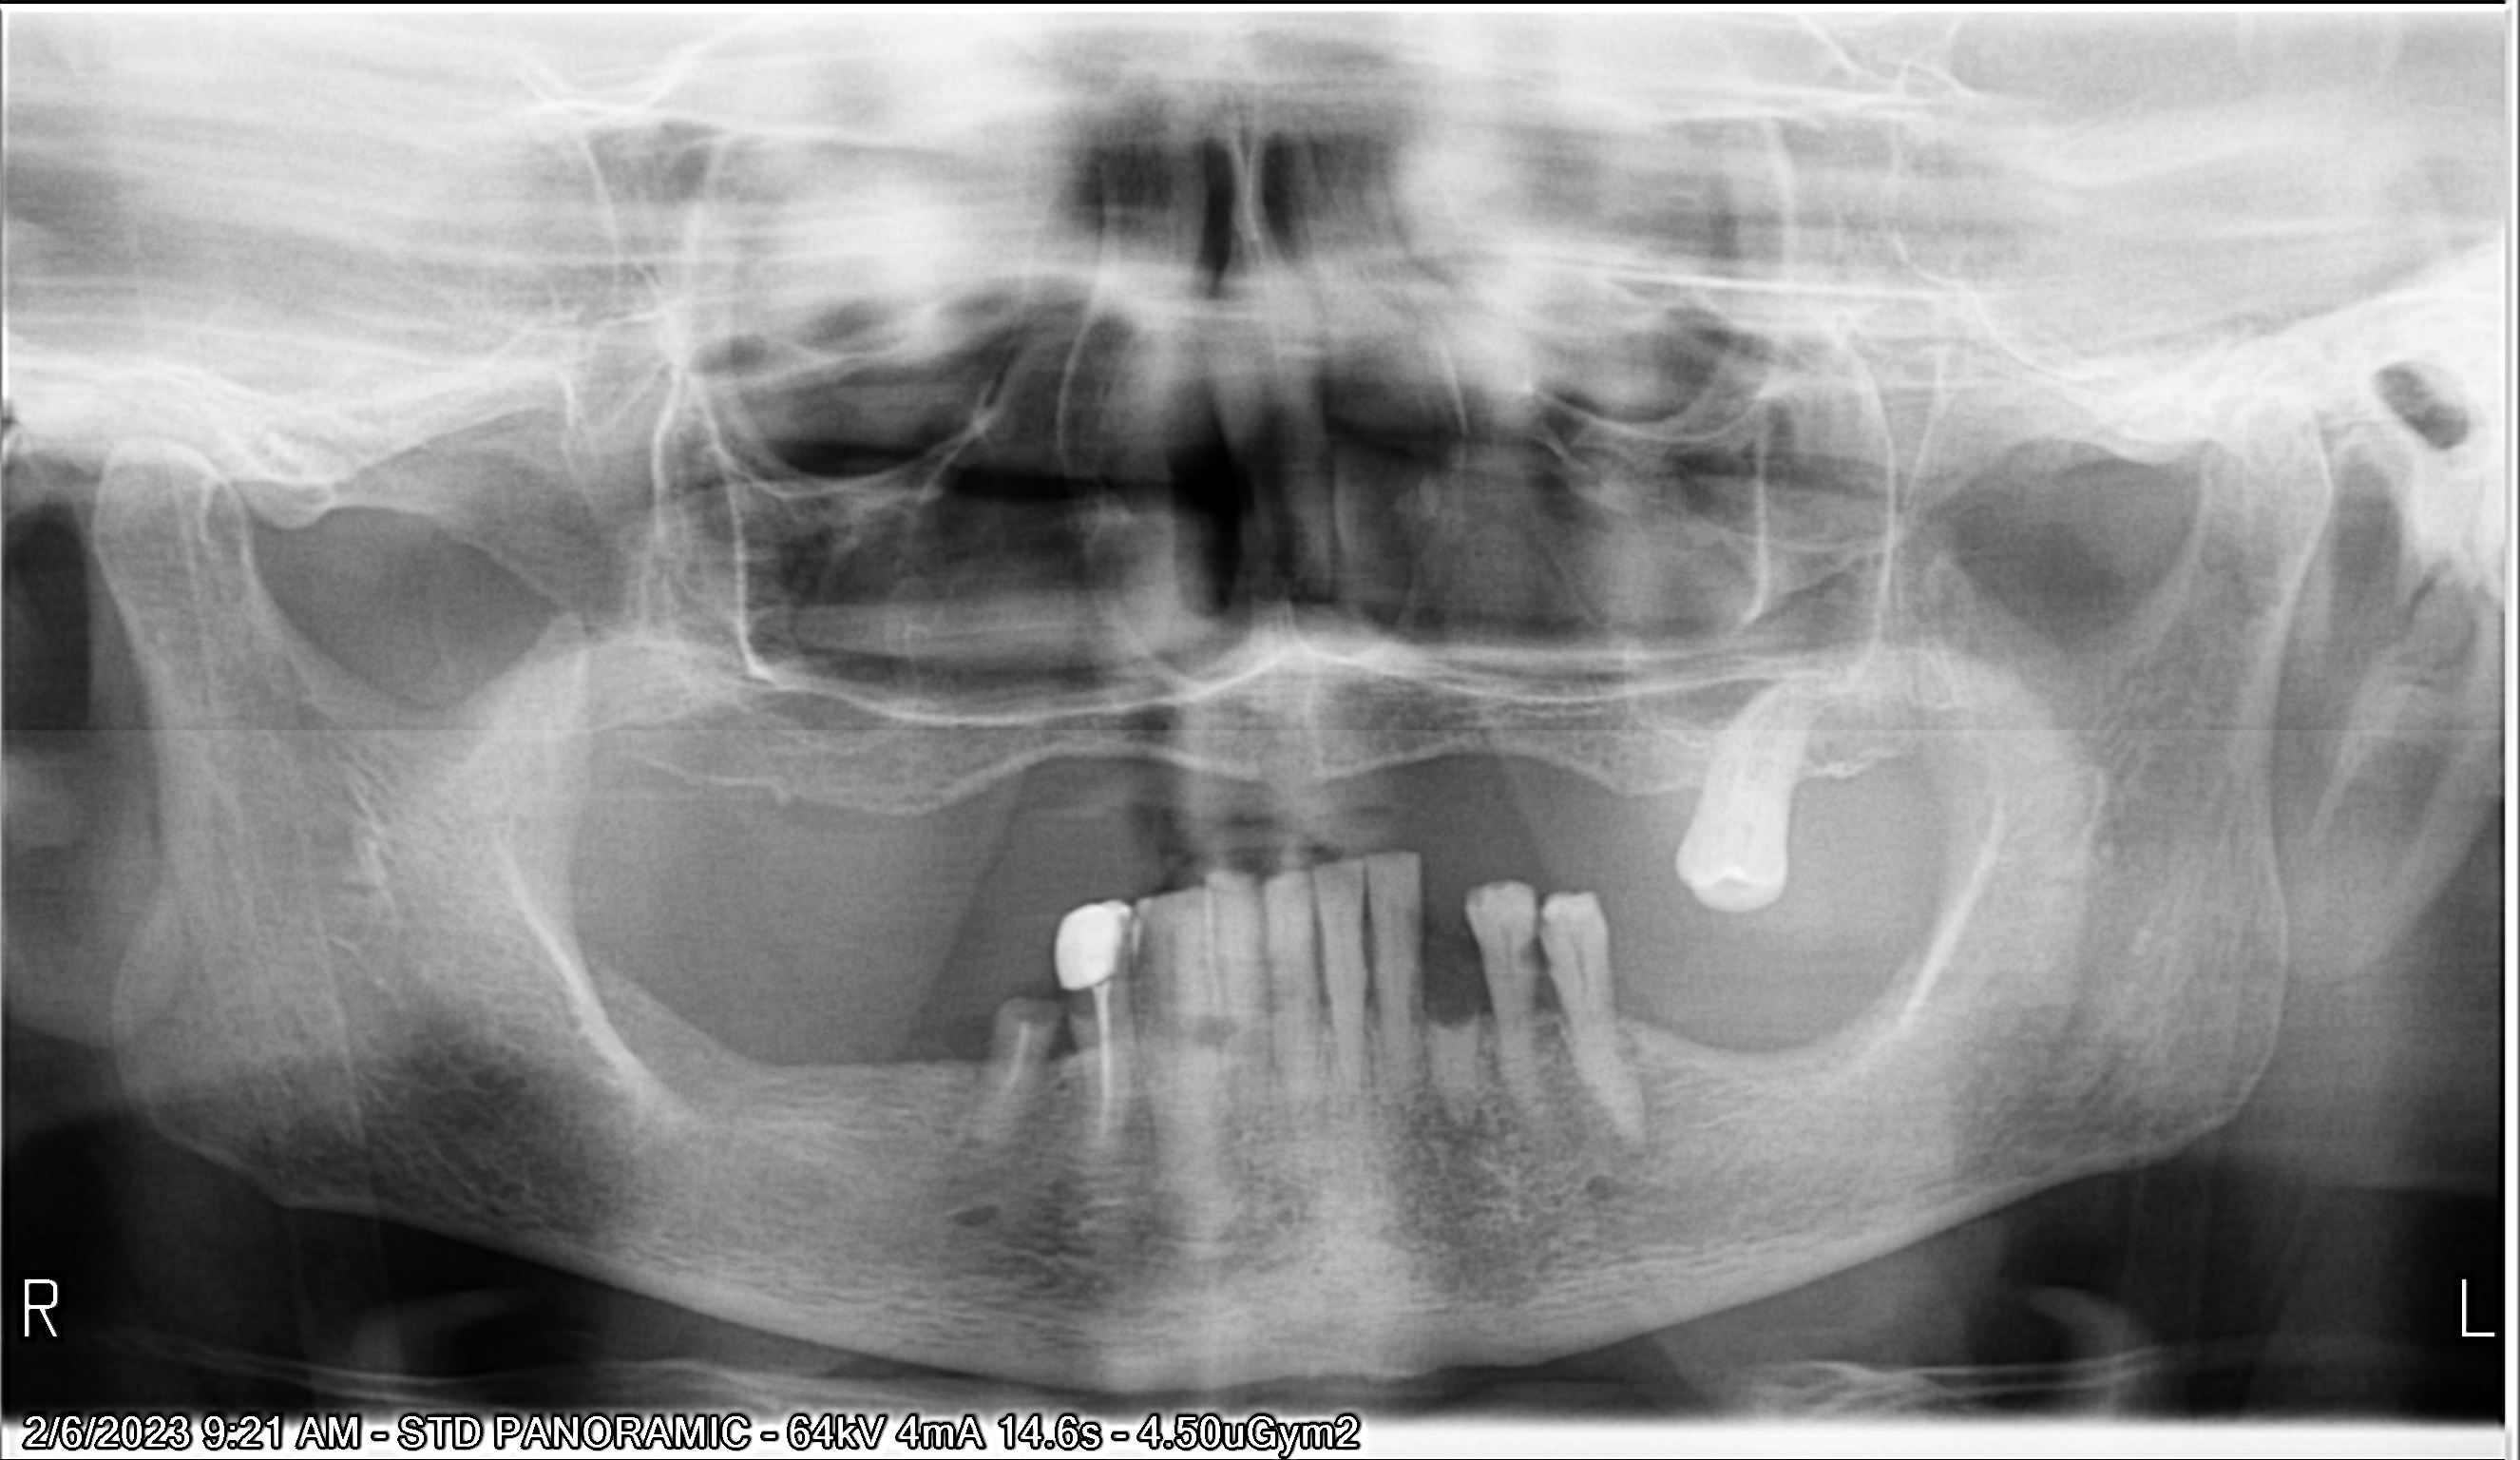BON: (1638, 753, 1725, 848), (1771, 746, 1855, 836), (1511, 925, 1575, 1027), (1591, 959, 1650, 1050), (1349, 926, 1395, 1019), (1290, 937, 1336, 1019)
END: (1084, 975, 1131, 1142), (988, 1003, 1044, 1102)
OBT: (1046, 895, 1141, 999)
ROT: (1407, 991, 1492, 1142)
